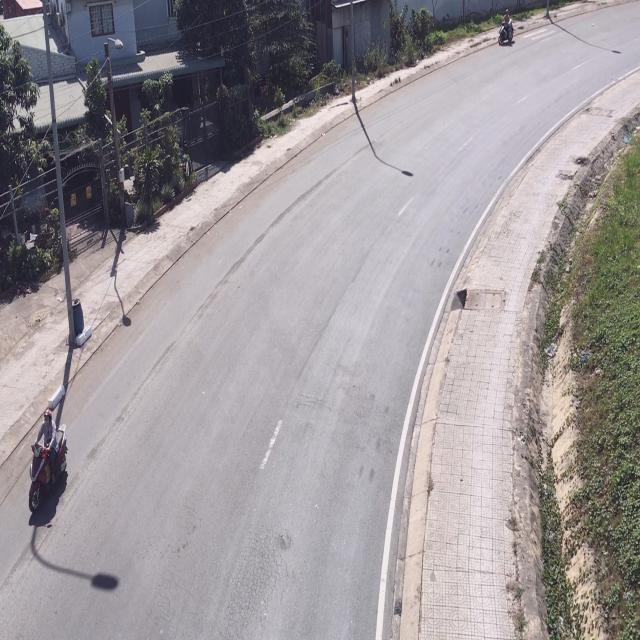motorbike: (31, 398, 69, 523), (497, 12, 515, 49)
